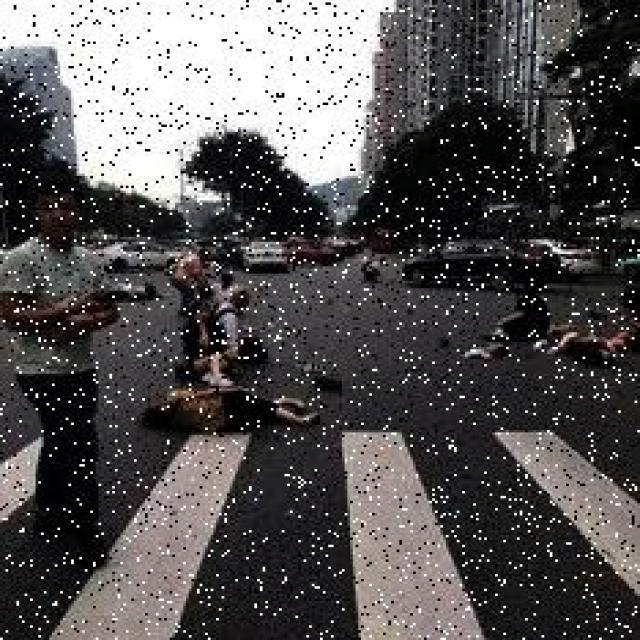fall: (136, 386, 314, 442)
